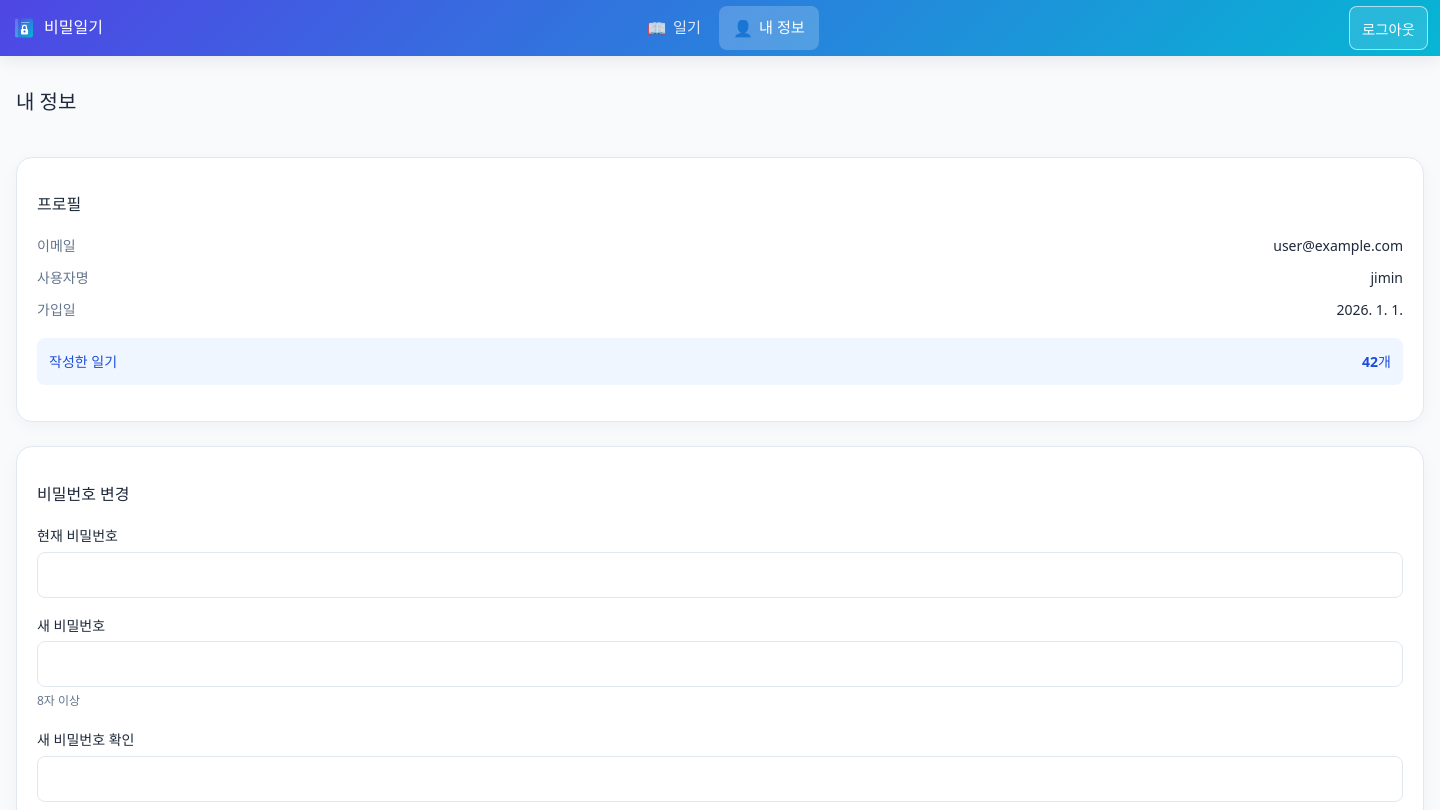
Test case: MyPage › 비밀번호 변경 실패(400) 시 서버 에러 메시지를 표시한다
Type "wrongPassword1" into the password field labelled "현재 비밀번호".
click(720, 575); type("wrongPassword1")  # box 37,552 -> 1403,598
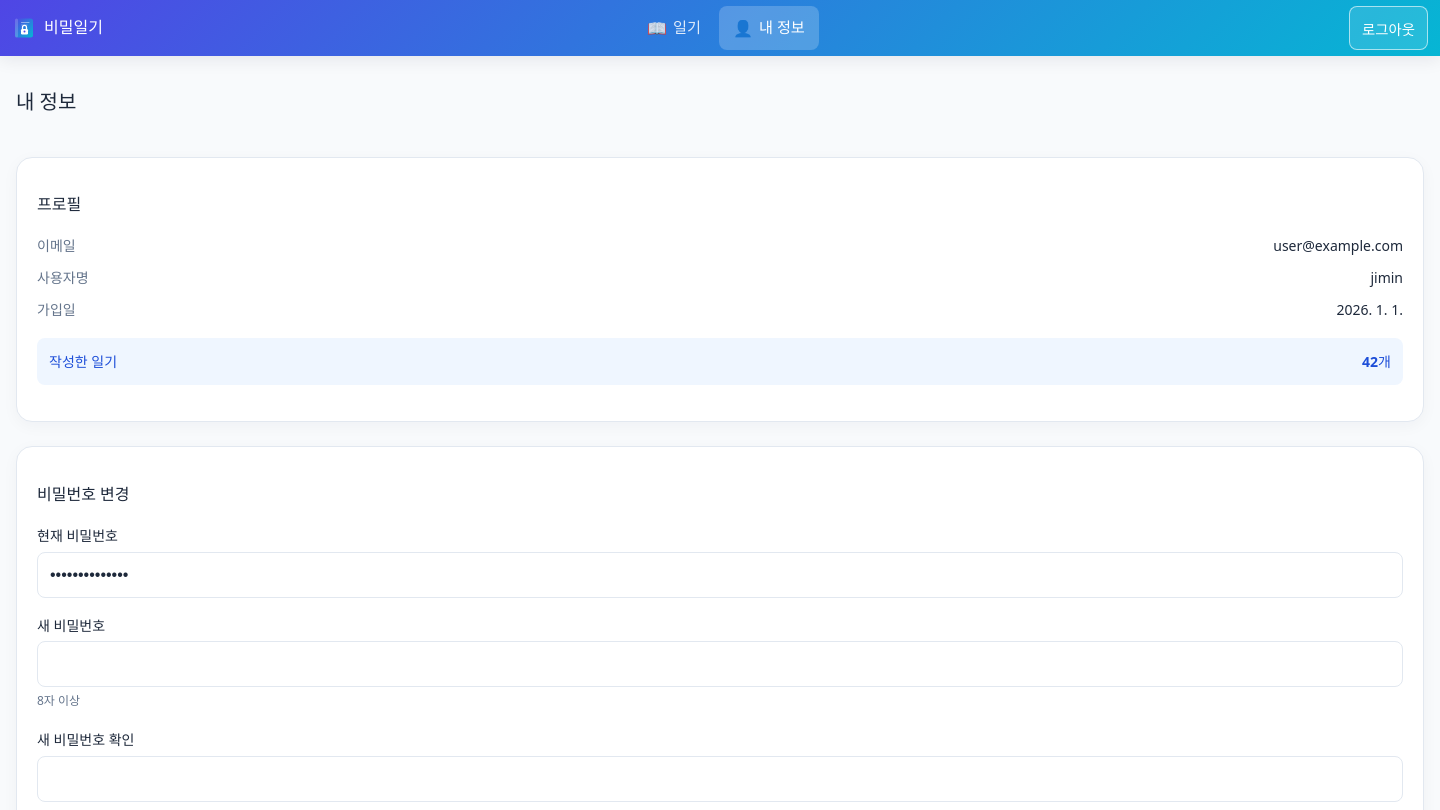
Type "newPassword1" into the password field labelled "새 비밀번호 8자 이상".
click(720, 664); type("newPassword1")  # box 37,642 -> 1403,688
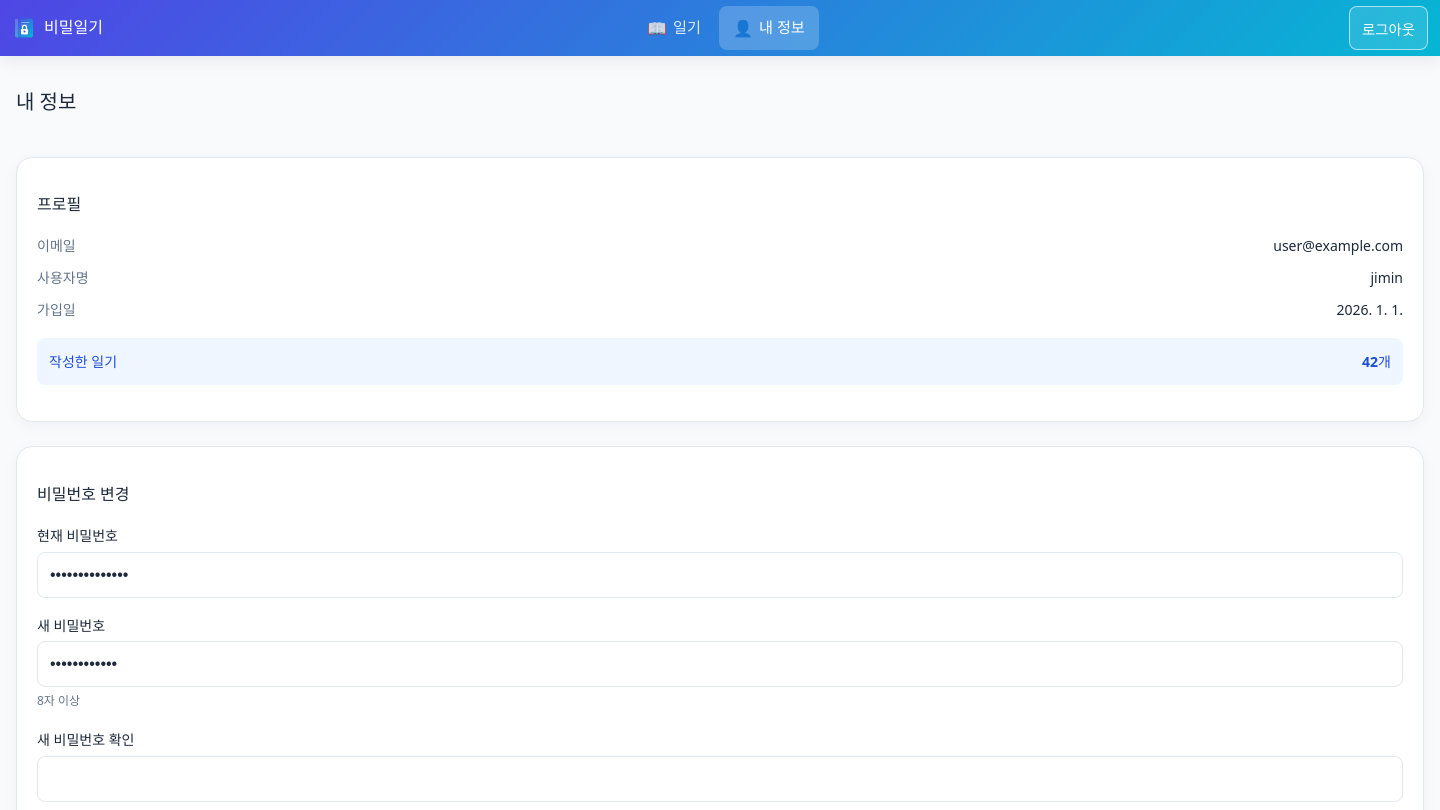
Type "newPassword1" into the password field labelled "새 비밀번호 확인".
click(720, 779); type("newPassword1")  # box 37,756 -> 1403,802
(page scrolled)
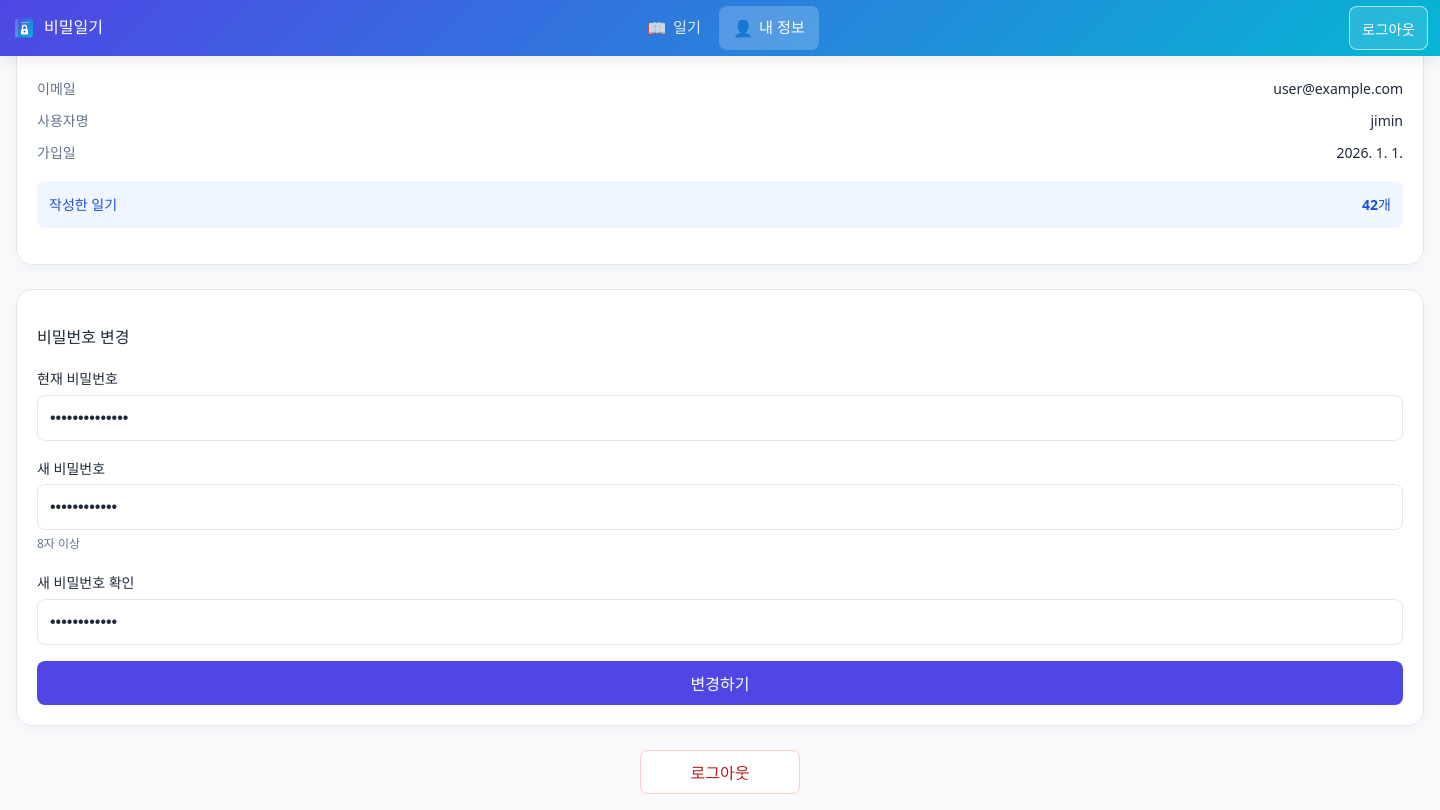
Submit the form, box 37,367 -> 1403,705
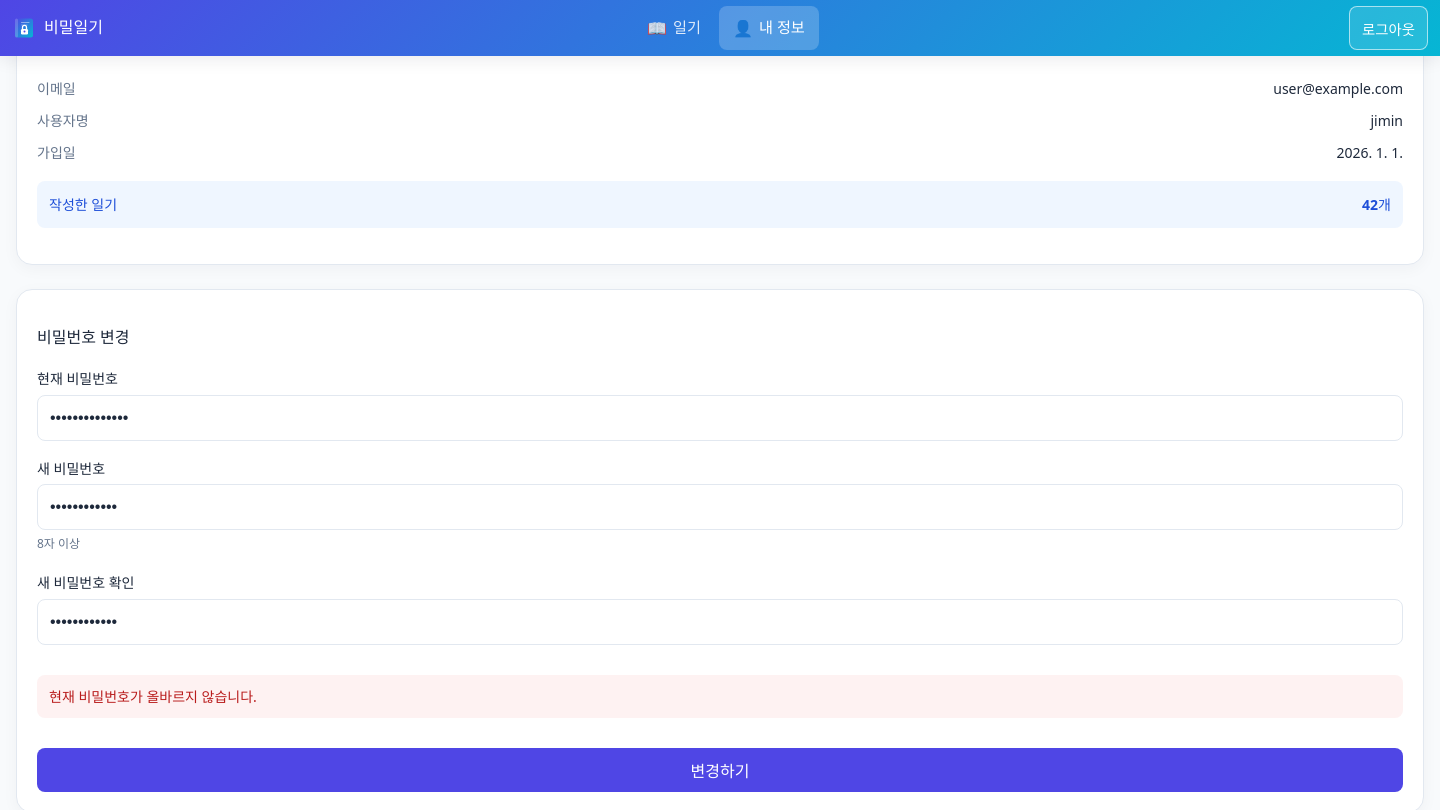
Expected: the text "현재 비밀번호가 올바르지 않습니다." is shown, 37,675 -> 1403,718
